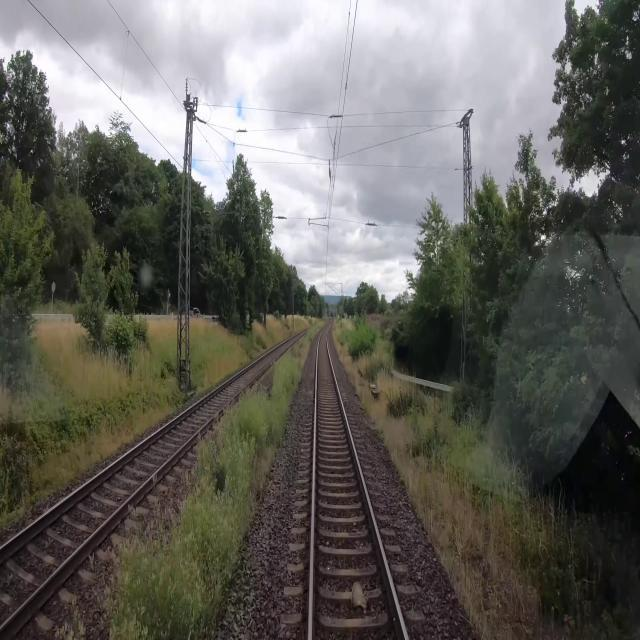Plant: (83, 351, 302, 639)
